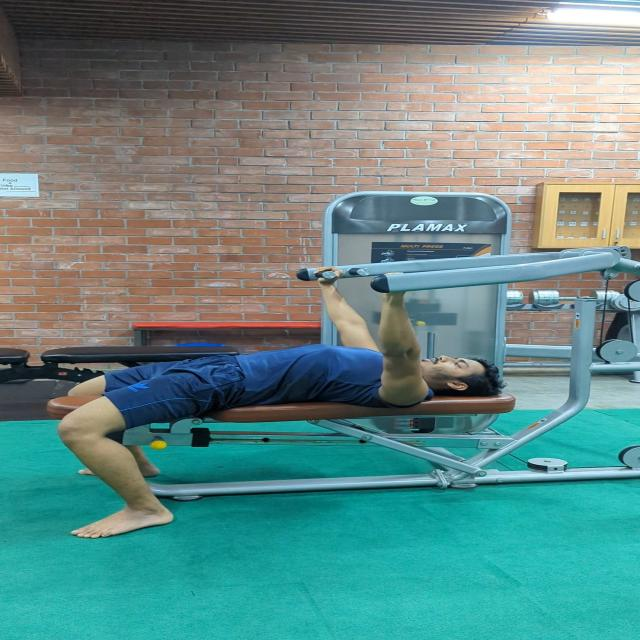Normal_BrenchPress: (41, 256, 567, 554)
